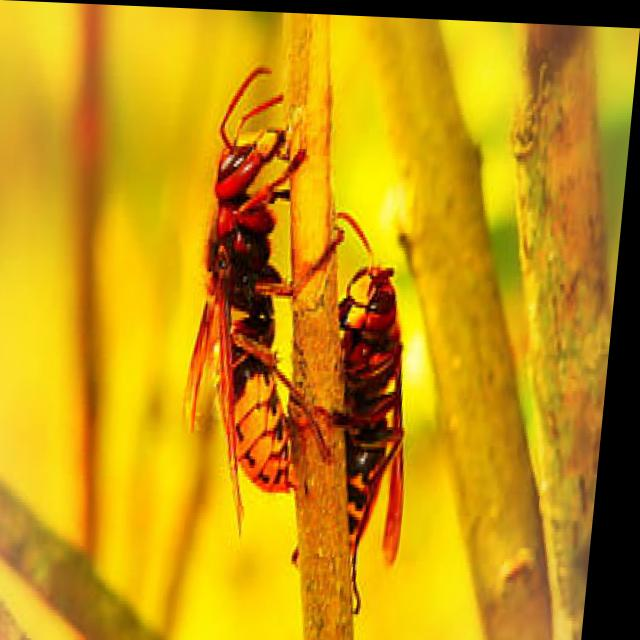Vespa Crabro: (159, 44, 348, 501), (296, 190, 455, 620)
